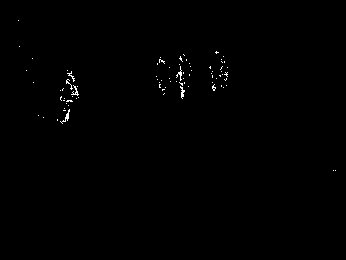person: (58, 71, 79, 124), (177, 56, 192, 98)
